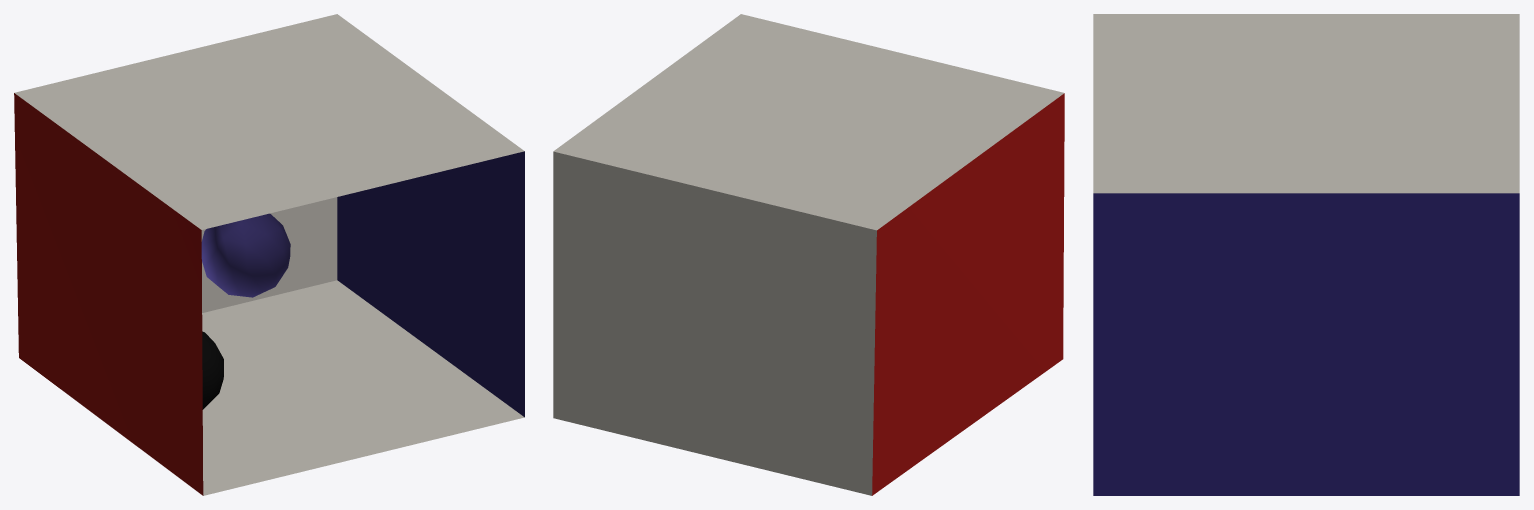
The model's file is CornellBox-Sphere-350.obj.
The picture shows the model from 3 angles, left to right: view 1: azimuth 30°, elevation 25°; view 2: azimuth 150°, elevation 25°; view 3: azimuth 270°, elevation 25°; orthographic projection. The views are drawn at different scales.
Visible parts, largest first — view 1: ceiling, leftWall, floor, rightWall, leftSphere, backWall, rightSphere; view 2: backWall, ceiling, leftWall; view 3: rightWall, ceiling.
Part boxes in pixels (x1,y1,x2,y2): ceiling: (14,14,524,229); leftWall: (14,93,203,495); floor: (202,280,524,495); rightWall: (337,151,524,417); leftSphere: (201,213,290,297); backWall: (201,197,337,312); rightSphere: (202,331,223,409); backWall: (553,151,876,495); ceiling: (553,14,1064,230); leftWall: (872,93,1064,495); rightWall: (1093,193,1519,495); ceiling: (1093,14,1519,193).
Size of the model in its own units: 2.02 by 1.59 by 2.03.
